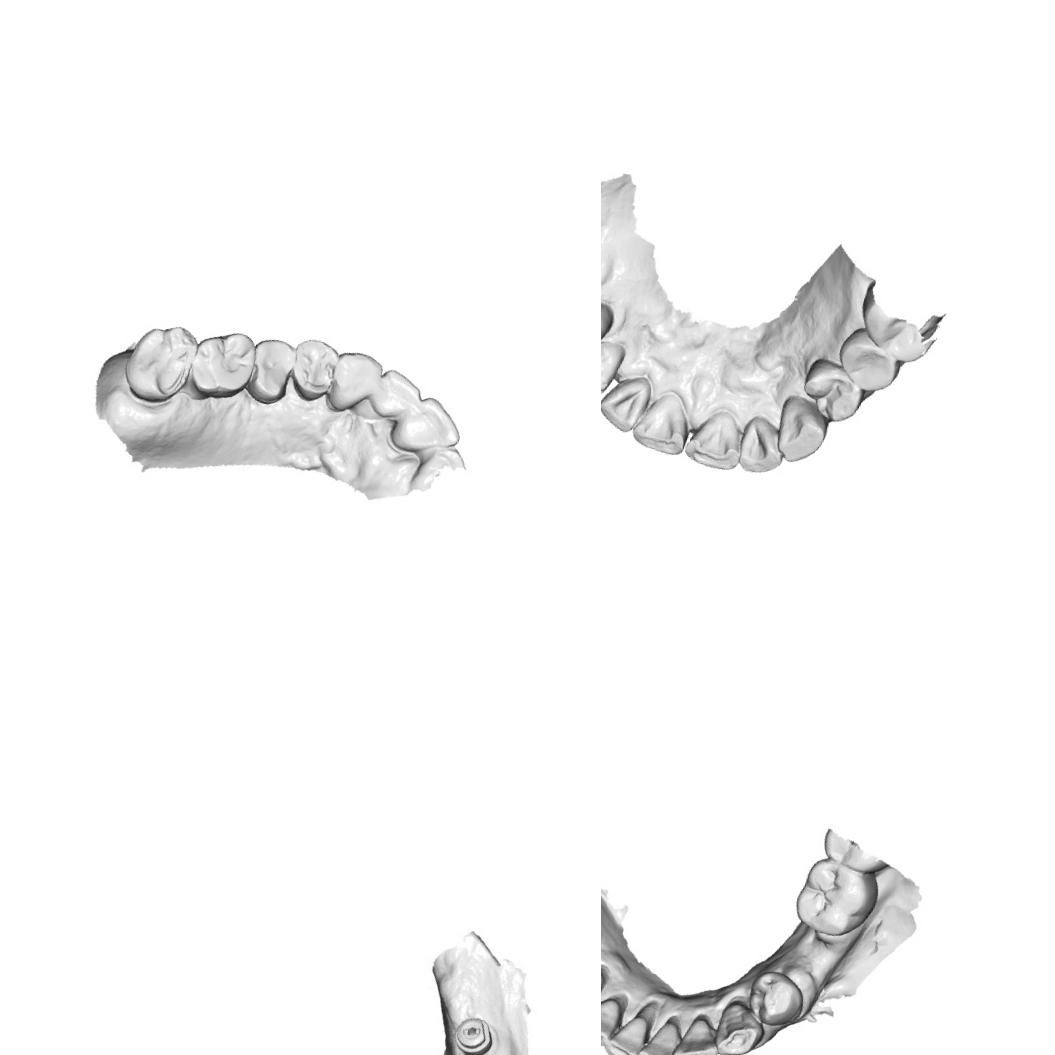canine: (768, 390, 834, 470), (322, 346, 388, 421), (708, 996, 768, 1055), (601, 330, 628, 401)
implant_minus: (446, 1007, 503, 1055)
incisor: (384, 388, 469, 464), (681, 401, 751, 473), (628, 385, 696, 457), (732, 411, 792, 479), (368, 364, 426, 430), (601, 366, 654, 436), (668, 1009, 727, 1055), (601, 1006, 653, 1055), (631, 1013, 683, 1055), (601, 986, 629, 1052)
molar: (786, 851, 883, 946), (116, 314, 202, 412), (182, 321, 262, 406)
premolar: (829, 321, 908, 398), (794, 354, 870, 428), (242, 333, 300, 410), (740, 966, 806, 1033), (283, 333, 341, 406), (601, 290, 617, 356)
